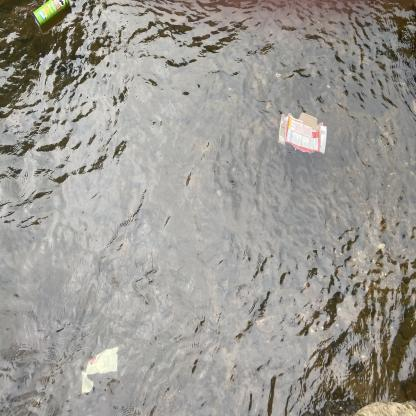trash: (274, 104, 332, 160), (76, 344, 124, 402), (30, 0, 72, 34)
